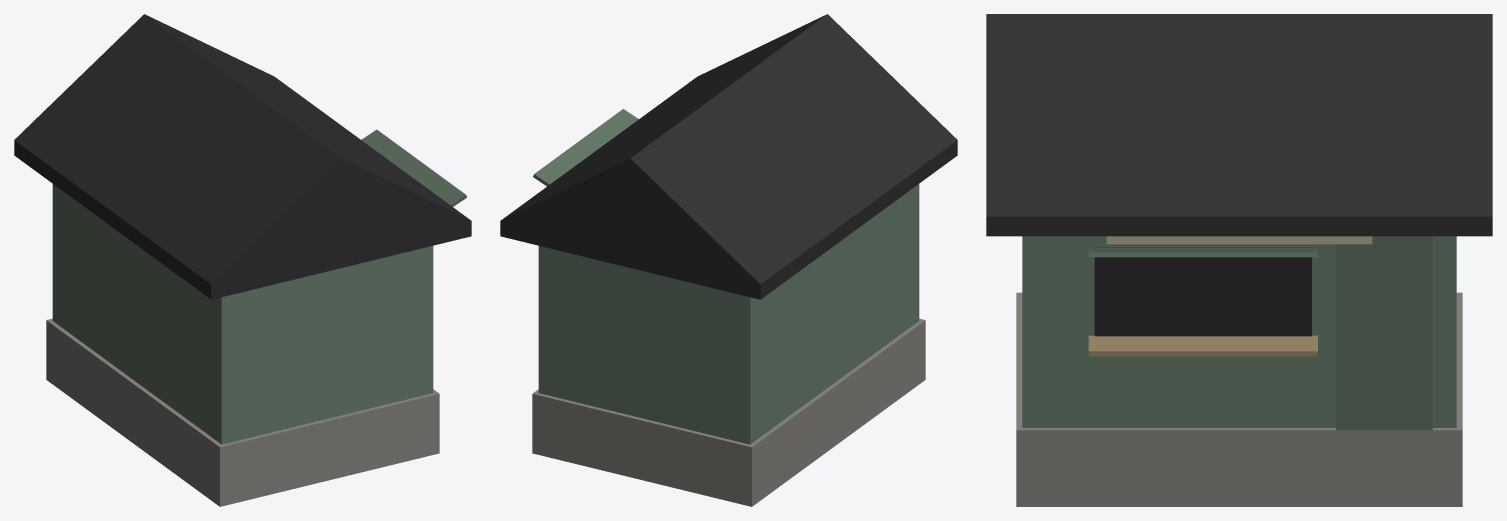
The model's file is SM_Prop_cafe_building_0_LOD2.glb.
The picture shows the model from 3 angles, left to right: view 1: azimuth 30°, elevation 25°; view 2: azimuth 150°, elevation 25°; view 3: azimuth 270°, elevation 25°; orthographic projection. The views are drawn at different scales.
Visible parts, largest first — view 1: SM_Prop_cafe_building_0_LOD2; view 2: SM_Prop_cafe_building_0_LOD2; view 3: SM_Prop_cafe_building_0_LOD2.
Part boxes in pixels (x1=…): SM_Prop_cafe_building_0_LOD2: x1=14, y1=14, x2=471, y2=506; SM_Prop_cafe_building_0_LOD2: x1=500, y1=14, x2=957, y2=506; SM_Prop_cafe_building_0_LOD2: x1=986, y1=14, x2=1492, y2=506.
Bounding box in the file's own units: 3.64 × 3.88 × 4.2.
